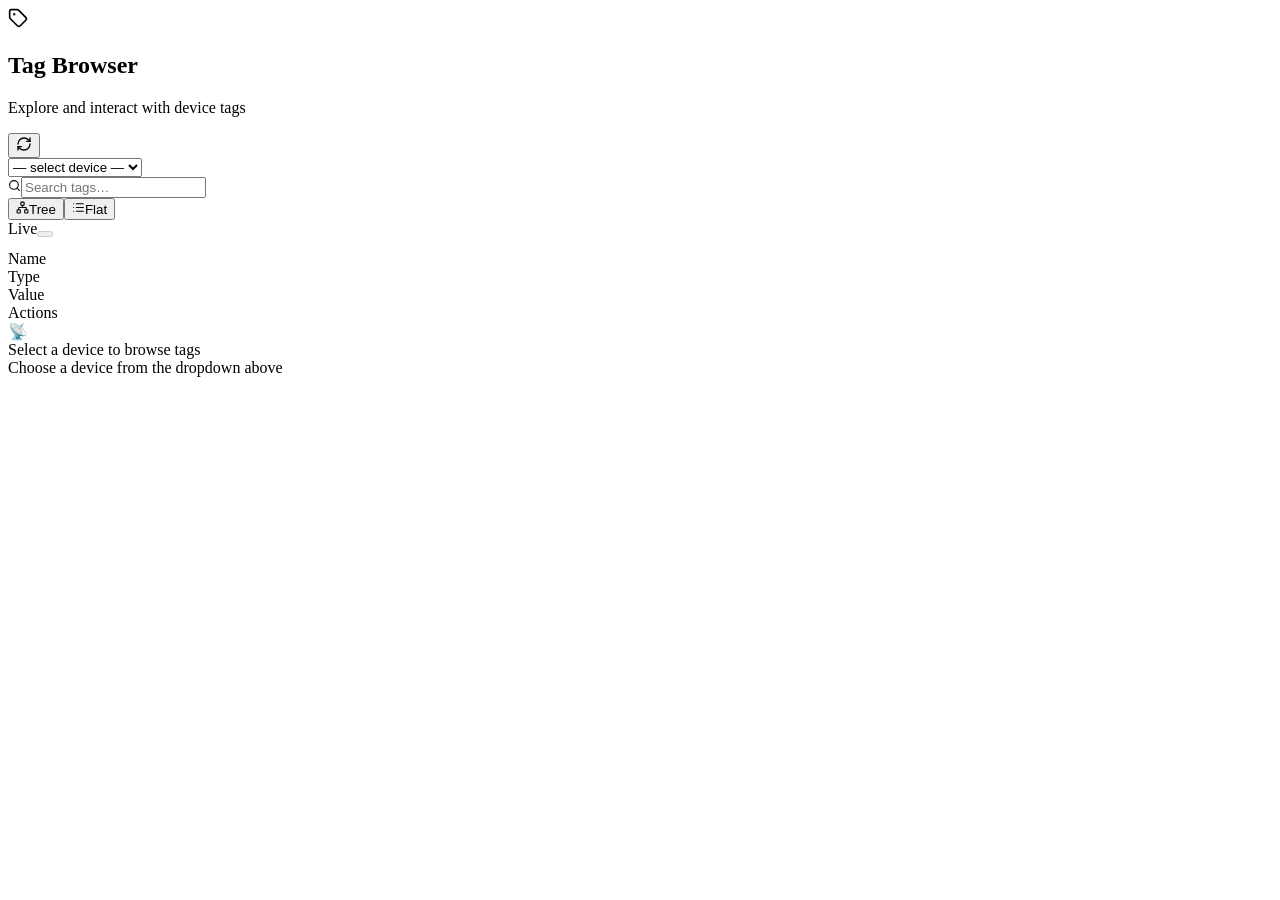
it: TagBrowserView › keeps the write dialog open and reports the failure for a read-only tag
The width and height of the screenshot is (1280, 900).
Step 1. Select "Line1_PLC" in the dropdown named "Device" → (75, 167), box [8,158,142,177]
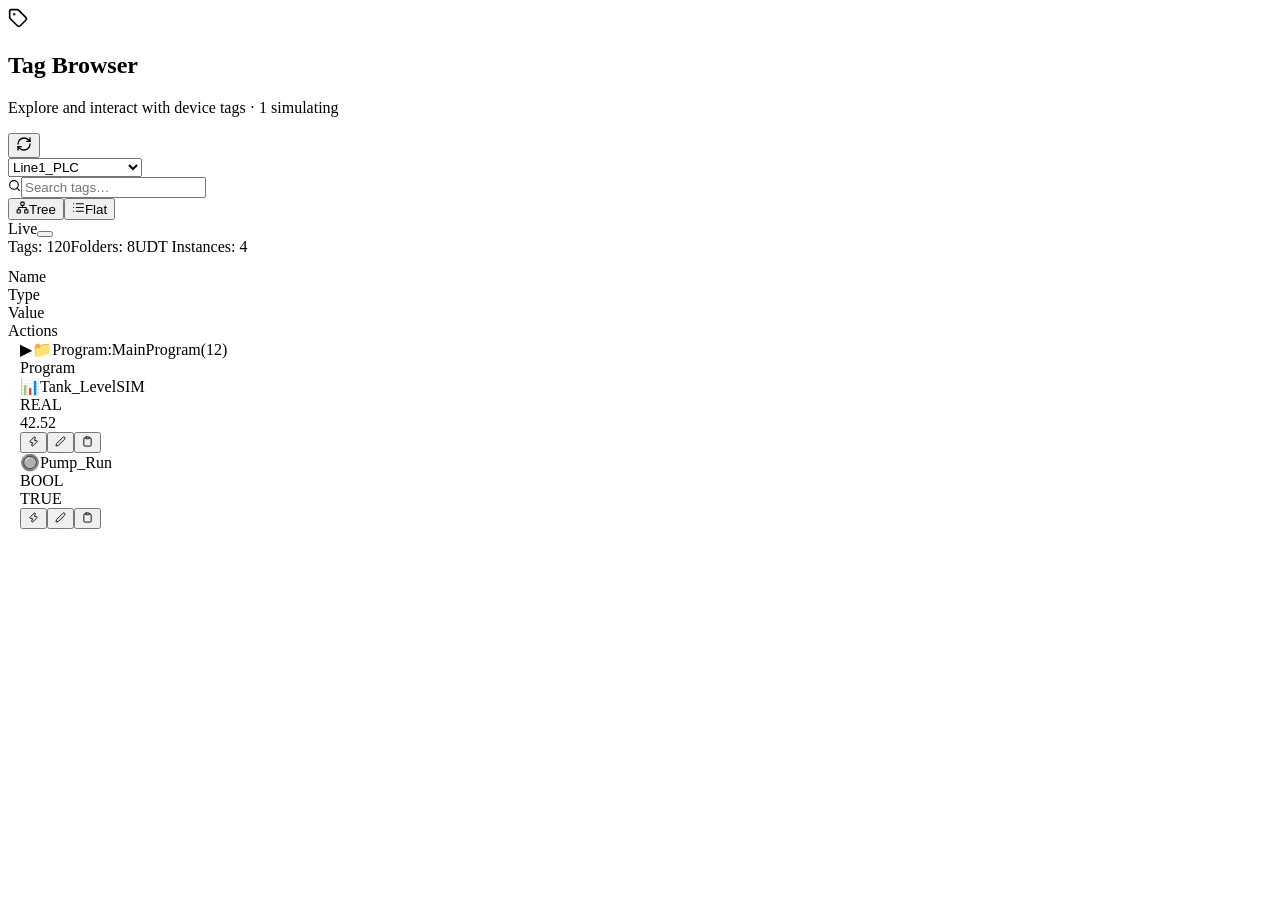
Now the text "Pump_Run" is shown, box [40,454,112,471]
Step 2. Click the button titled "Write value" below "TRUE" → (60, 518), box [47,508,74,529]
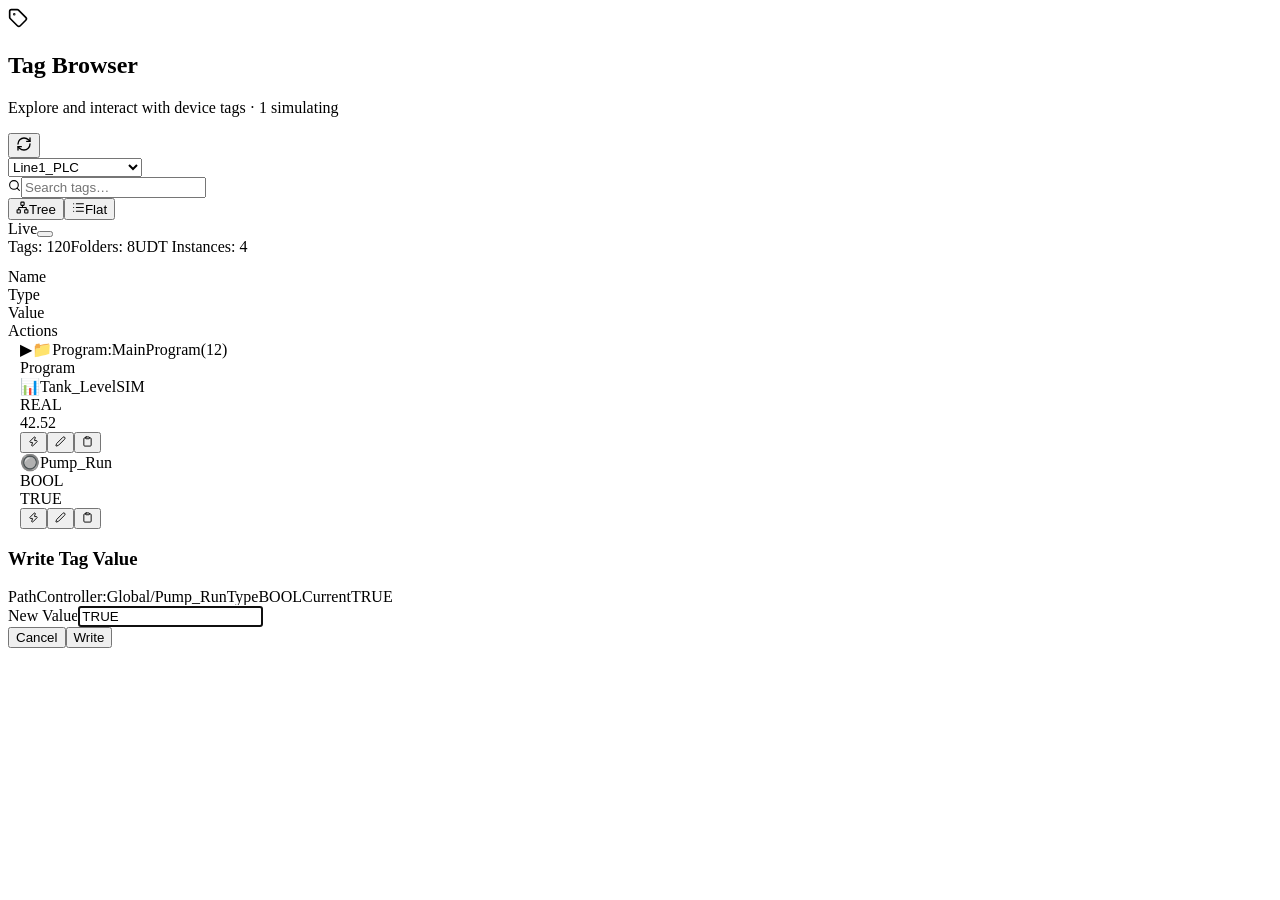
Step 3. Click the button "Write" → (89, 638), box [66,627,112,648]
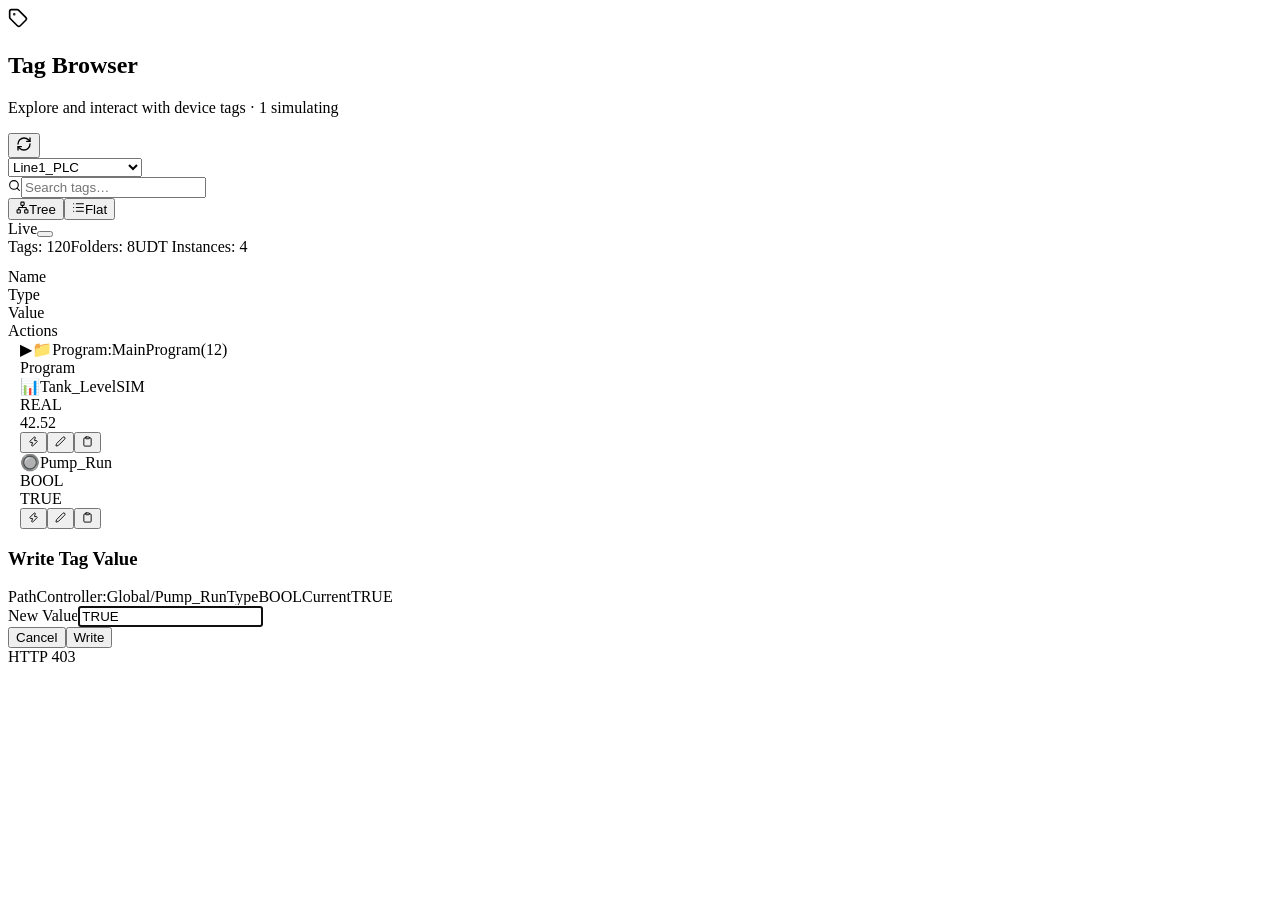
Now the dialog is shown, box [8,548,393,648]
Now the text "HTTP 403" is shown, box [8,648,75,665]
